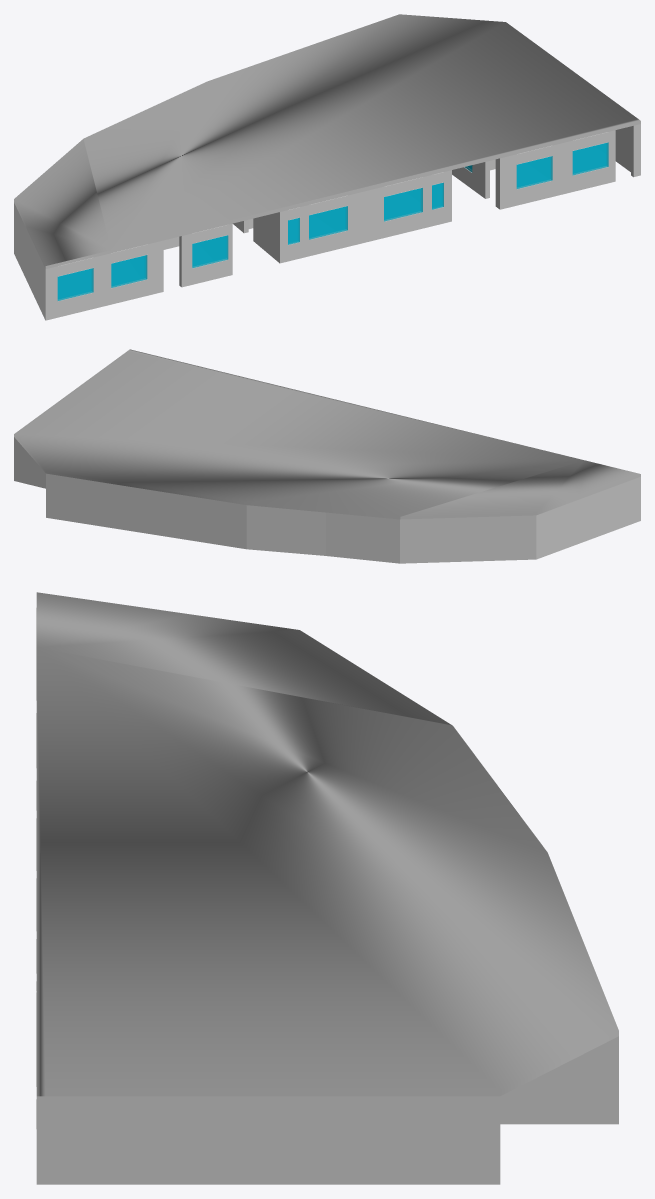
The model's file is f1cfa725-8370-437a-bbbf-03adcfec8126.glb.
3 views of the same model, one above another, from view 1: azimuth 30°, elevation 25°; view 2: azimuth 150°, elevation 25°; view 3: azimuth 270°, elevation 25° (orthographic). The views are drawn at different scales.
Parts seen in each view (by area): view 1: roof, walls, windows; view 2: roof, walls; view 3: roof, walls.
Boxes of the visible parts, x1,y1,x2,y2 form: roof: (14, 14, 640, 268); walls: (14, 124, 640, 320); windows: (57, 142, 608, 300); roof: (14, 349, 640, 519); walls: (14, 437, 640, 563); roof: (36, 592, 618, 1096); walls: (36, 607, 618, 1184).
Bounding box in the file's own units: 30.27 × 2.65 × 14.96.
